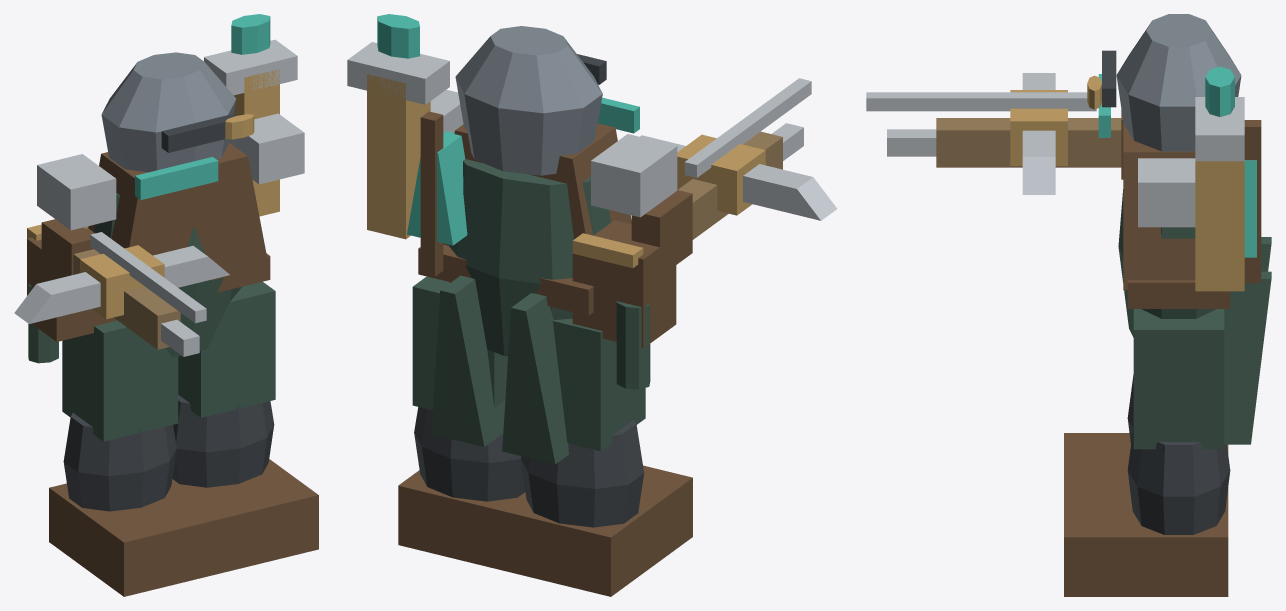
The model's file is unit-scout.glb.
3 views of the same model, side by side, from view 1: azimuth 30°, elevation 25°; view 2: azimuth 150°, elevation 25°; view 3: azimuth 270°, elevation 25° (orthographic). The views are drawn at different scales.
Visible parts, largest first — view 1: Body, LegL, LegR, Weapon; view 2: Body, LegL, LegR, Weapon; view 3: Body, LegR, Weapon, LegL.
Part boxes in pixels (x1,y1,x2,y2): Body: [27, 14, 304, 363]; LegL: [49, 320, 221, 596]; LegR: [172, 281, 318, 572]; Weapon: [14, 219, 229, 356]; Body: [347, 14, 677, 464]; LegL: [504, 318, 692, 596]; LegR: [398, 276, 525, 570]; Weapon: [631, 78, 837, 276]; Body: [1087, 14, 1271, 444]; LegR: [1064, 309, 1230, 596]; Weapon: [866, 73, 1123, 194]; LegL: [1064, 374, 1228, 485].
Bounding box in the file's own units: 1.07 × 1.4 × 0.985.
